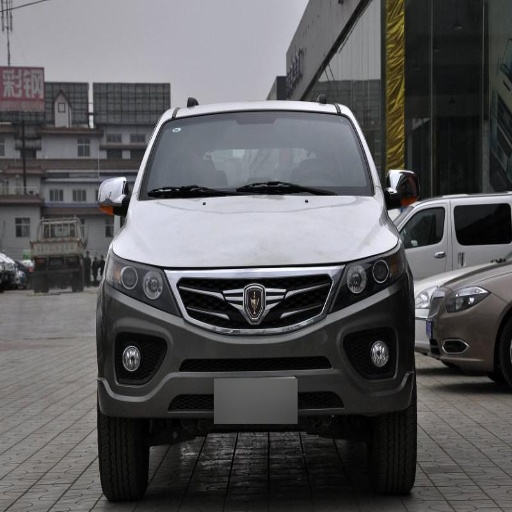front_bumper: (104, 259, 414, 428)
front_right_light: (108, 252, 161, 304)
hood: (116, 196, 396, 266)
